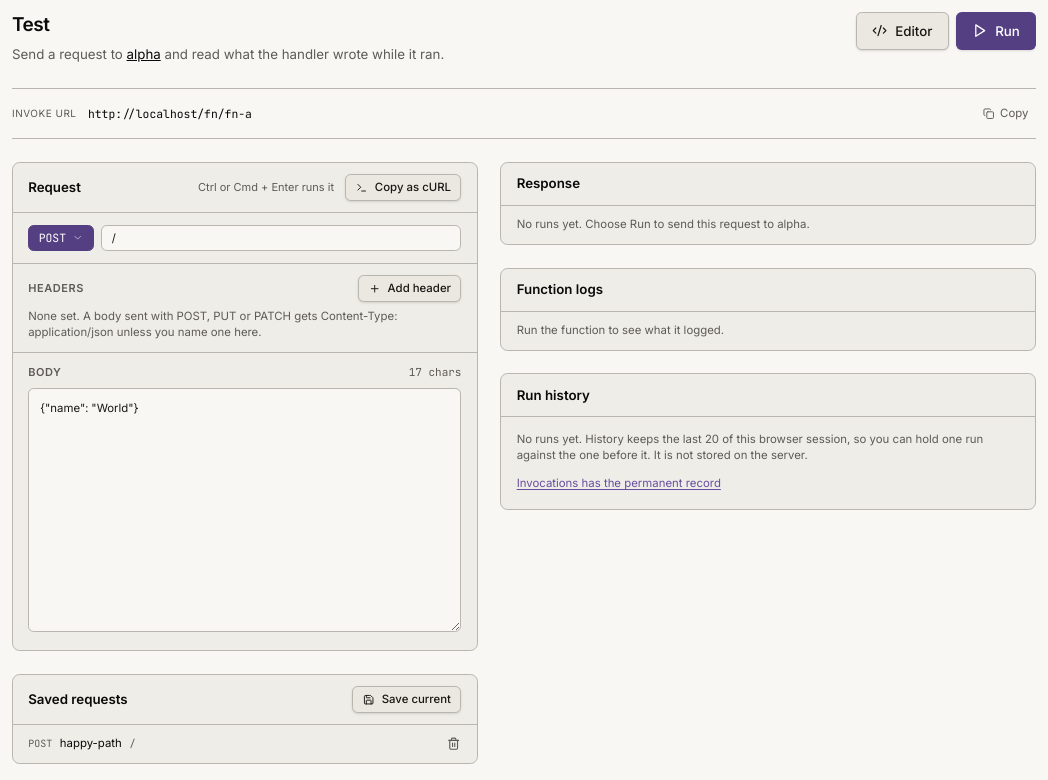
Test: TestWorkbench › lets an earlier run be inspected without losing the way back
Click the button "Run" at (996, 31), box left=956, top=12, right=1036, bottom=50
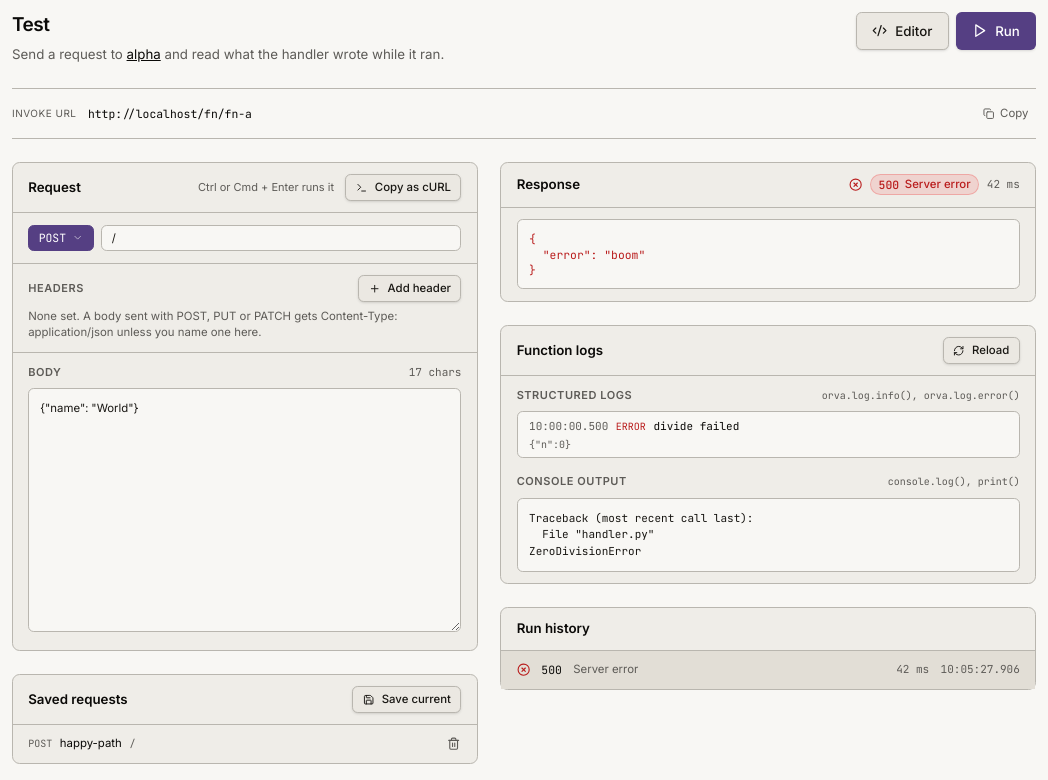
Click the button "Run" at (996, 31), box left=956, top=12, right=1036, bottom=50
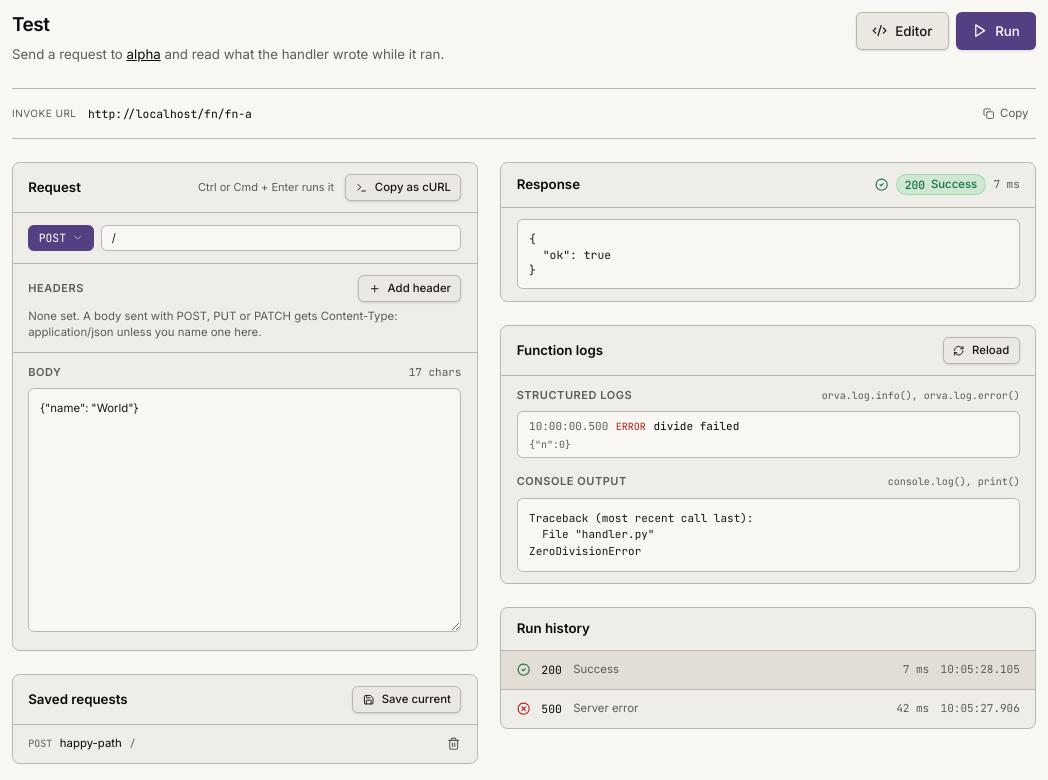
Expected: the text "\"ok\": true" is shown, left=529, top=231, right=611, bottom=277
Click the button "500 Server error 42 ms 10:05:27.906" at (606, 708), box left=502, top=690, right=1035, bottom=728
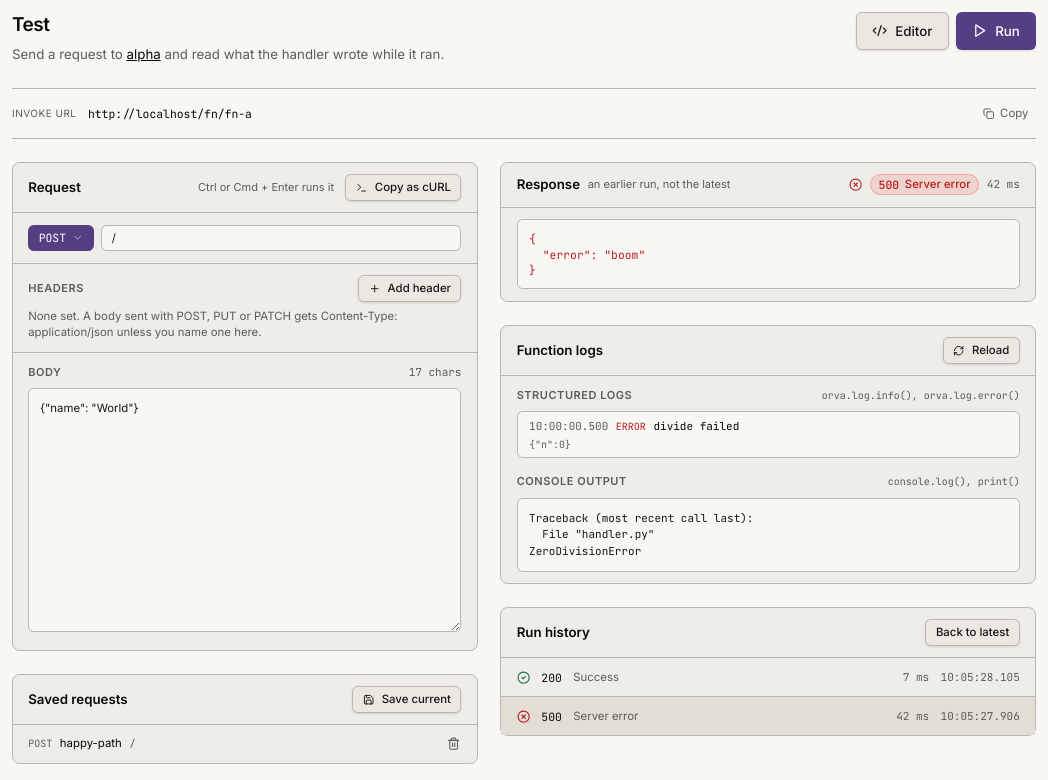
Expected: the text "an earlier run, not the latest" is shown, left=588, top=176, right=730, bottom=193
Expected: the text "\"error\": \"boom\"" is shown, left=529, top=231, right=645, bottom=277
Click the button "Back to latest" at (973, 633), box left=925, top=619, right=1020, bottom=646
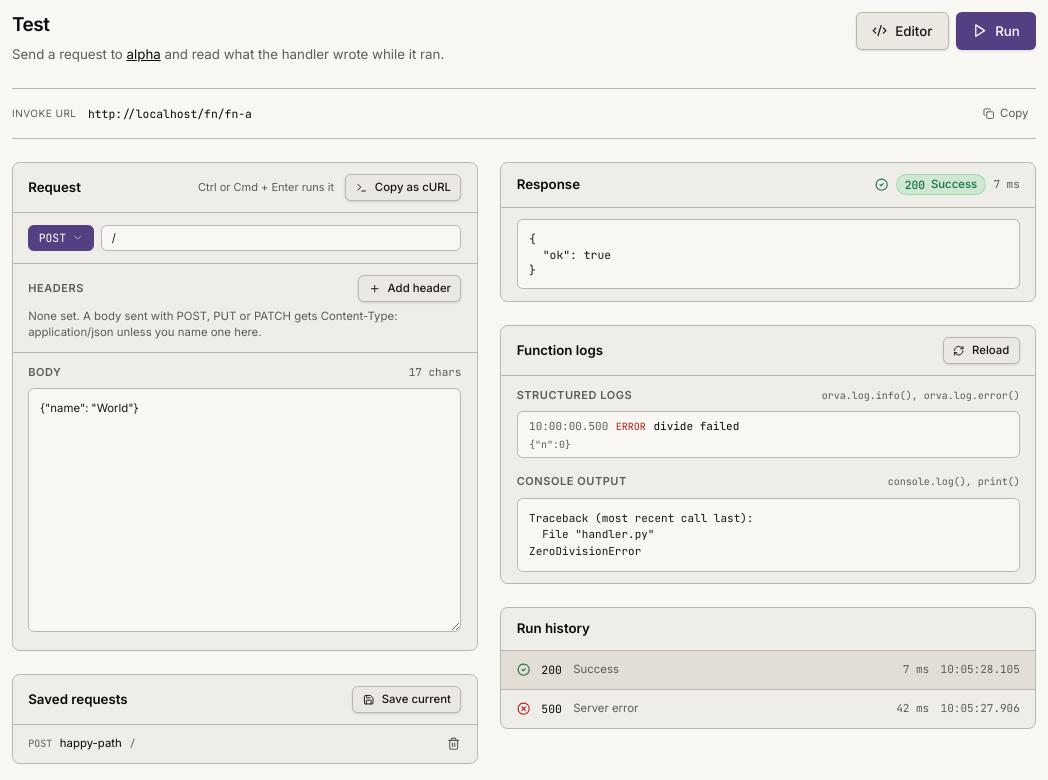
Expected: the text "\"ok\": true" is shown, left=529, top=231, right=611, bottom=277
